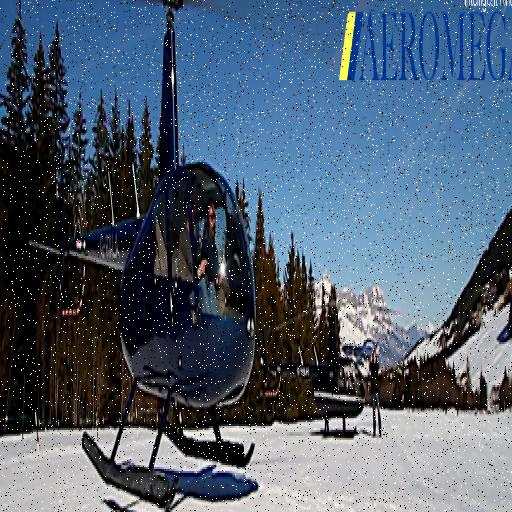helicopter: (37, 1, 275, 507)
